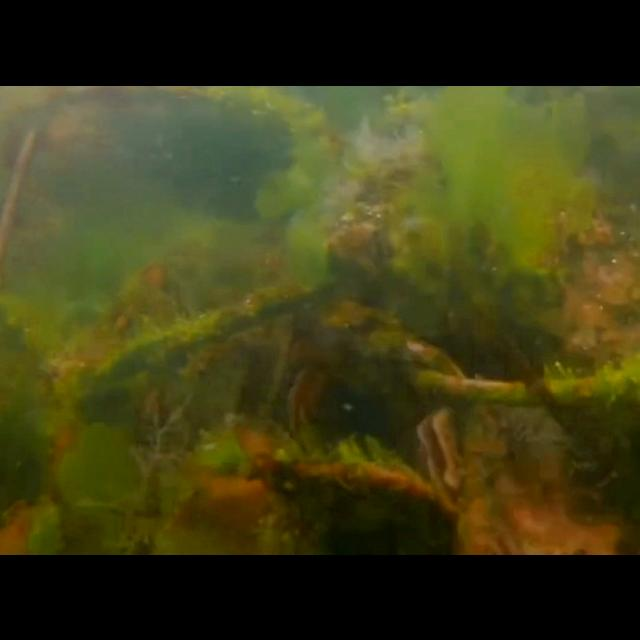Oyster-Closed: (253, 448, 464, 554)
Oyster-Open: (262, 354, 326, 446), (411, 406, 471, 498), (468, 502, 520, 554)
